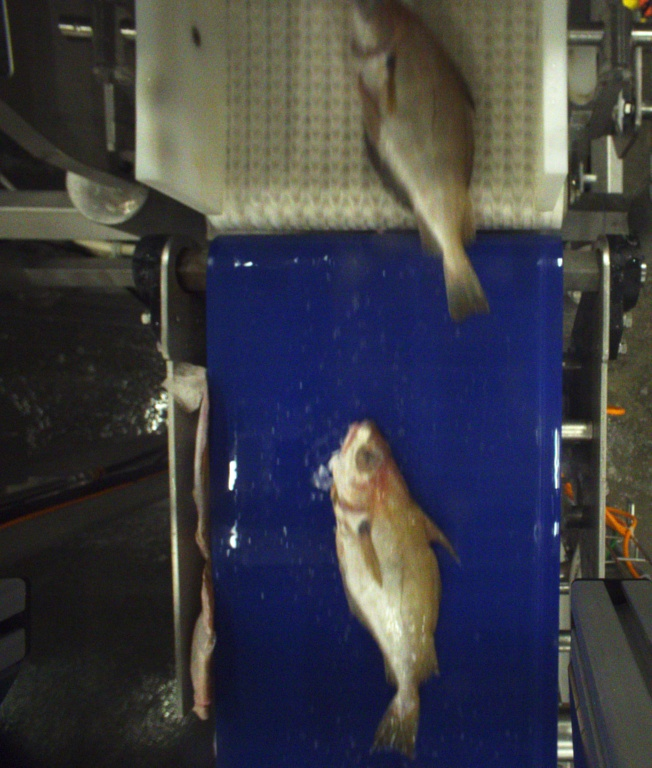BIB: (344, 0, 489, 318)
